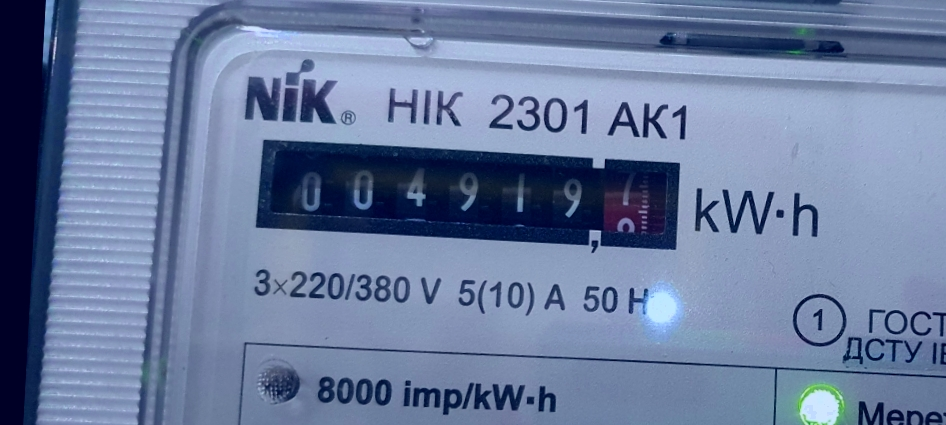0: (348, 165, 376, 212), (297, 167, 323, 212)
1: (510, 169, 528, 215)
4: (401, 163, 428, 208)
7: (612, 167, 637, 208)
9: (558, 173, 583, 221), (454, 169, 480, 214)
screen: (242, 124, 697, 268)
